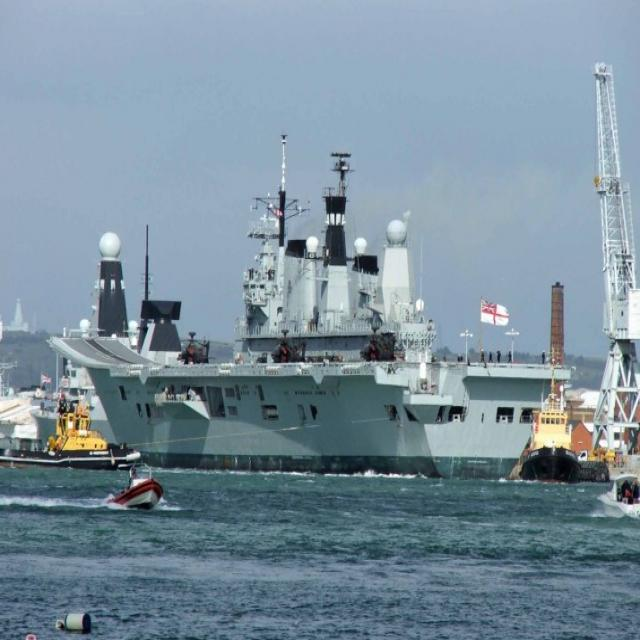Portanaves: (46, 129, 578, 487)
